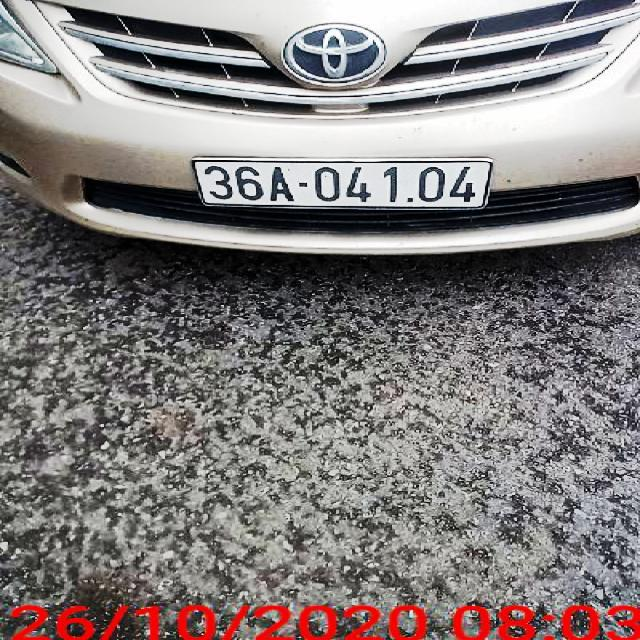license_plate: (197, 160, 496, 208)
